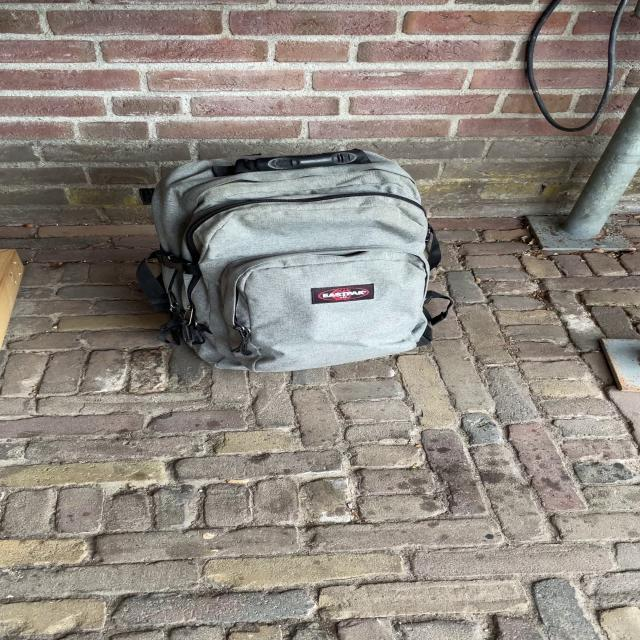backpack: (127, 138, 454, 378)
